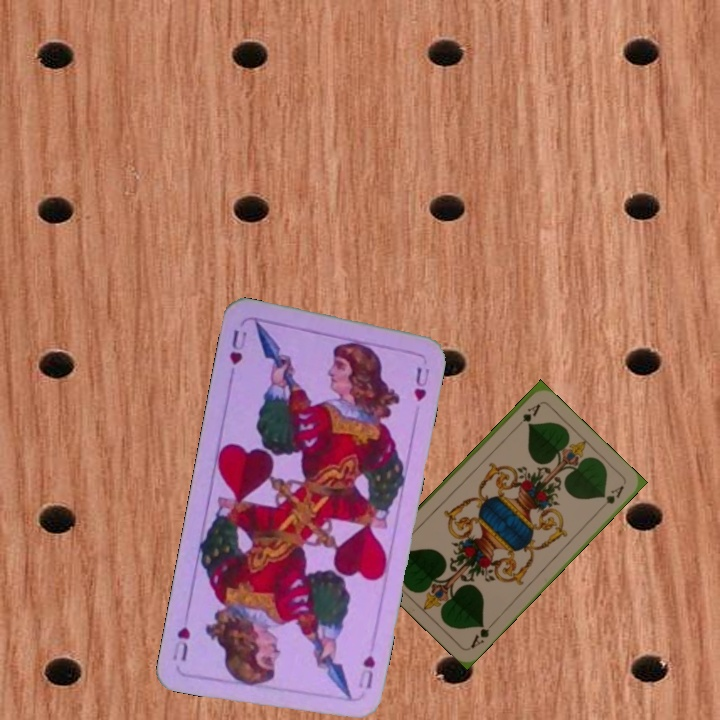GA: (466, 618, 497, 651), (518, 399, 543, 425)
HU: (225, 325, 250, 368), (354, 651, 378, 691)
